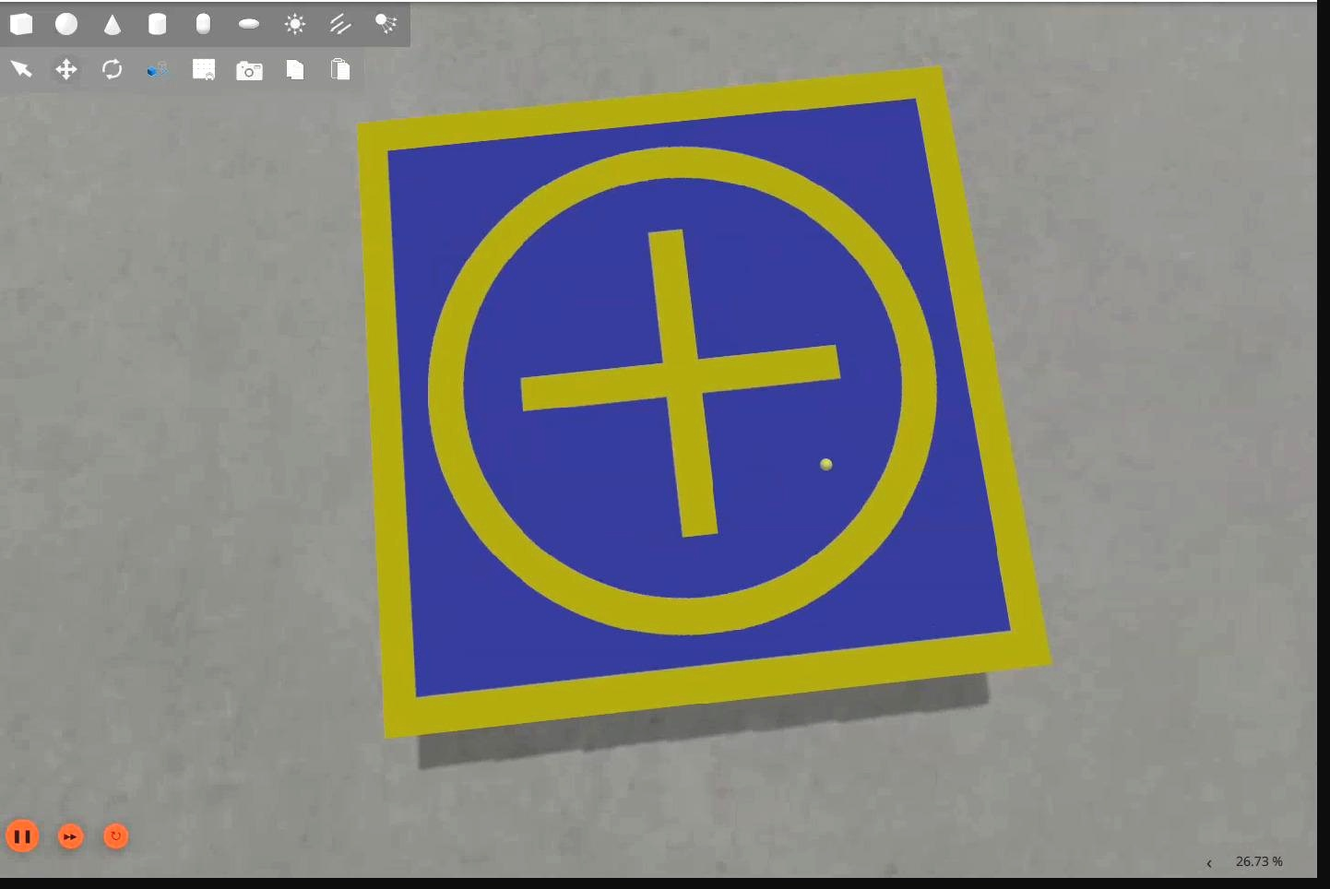small_base: (349, 71, 1056, 746)
